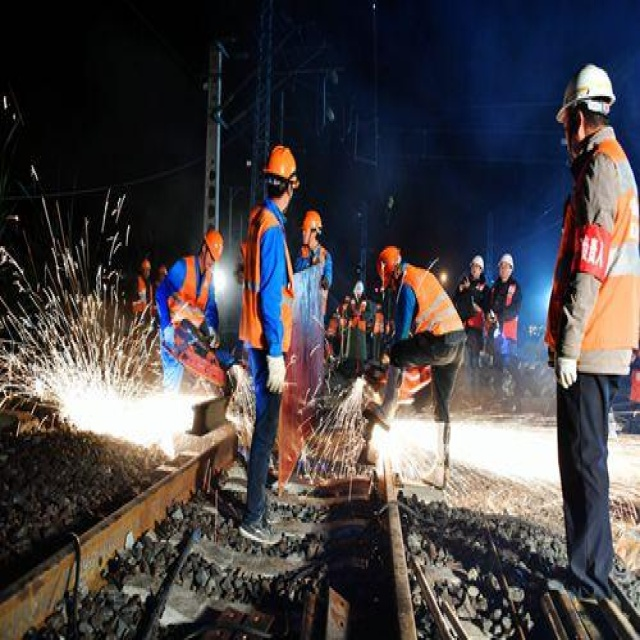Helmet: (550, 49, 623, 161), (252, 137, 309, 221), (367, 238, 412, 299), (297, 199, 331, 254), (193, 222, 226, 274)
Reflective vest: (538, 143, 640, 366), (236, 207, 300, 362), (401, 268, 467, 350), (156, 252, 218, 337)
